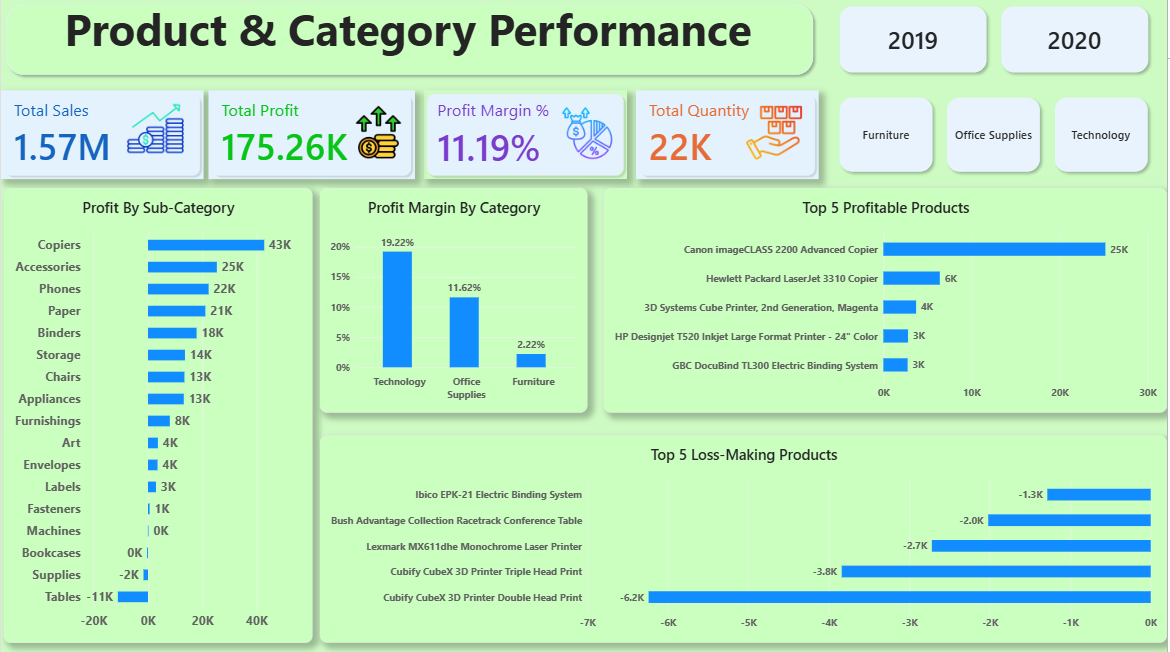

The page's visual inventory and layout, read from the dashboard file:
{"tool":"powerbi","page":{"name":"Product & Category Performance","canvas":[1920,1080],"ordinal":1},"visuals":[{"type":"shape","box":[0,0,1346.1,133.8],"z":0},{"type":"advancedSlicerVisual","fields":{"Values":["DimDate.Year"]},"box":[1368.8,0,533.1,133.8],"z":1000},{"type":"textbox","box":[65.9,0,1208.2,107],"z":2000},{"type":"cardVisual","fields":{"Data":["SuperStore_Sales_Dataset_Cleaned.Total Sales"]},"box":[0,150.3,333.4,146.1],"z":3000},{"type":"cardVisual","fields":{"Data":["SuperStore_Sales_Dataset_Cleaned.Total Profit"]},"box":[341.7,150.3,339.6,146.1],"z":4000},{"type":"cardVisual","fields":{"Data":["SuperStore_Sales_Dataset_Cleaned.Profit Margin %"]},"box":[695.7,150.3,335.5,146.1],"z":5000},{"type":"cardVisual","fields":{"Data":["SuperStore_Sales_Dataset_Cleaned.Total Quantity"]},"box":[1045.6,150.3,300.5,146.1],"z":6000},{"type":"image","box":[205.8,158.5,96.7,109.1],"z":7000},{"type":"image","box":[578.4,158.5,86.4,121.4],"z":8000},{"type":"image","box":[922.1,158.5,86.4,125.6],"z":9000},{"type":"clusteredBarChart","title":"Profit By Sub-Category","fields":{"Y":["SuperStore_Sales_Dataset_Cleaned.Total Profit"],"Category":["SuperStore_Sales_Dataset_Cleaned.Sub-Category"]},"box":[4.1,310.8,508.4,749.2],"z":10000},{"type":"clusteredColumnChart","title":"Profit Margin By Category","fields":{"Category":["SuperStore_Sales_Dataset_Cleaned.Category"],"Y":["SuperStore_Sales_Dataset_Cleaned.Profit Margin %"]},"box":[524.9,310.8,440.5,370.5],"z":11000},{"type":"clusteredBarChart","title":"Top 5 Profitable Products","fields":{"Y":["SuperStore_Sales_Dataset_Cleaned.Total Profit"],"Category":["SuperStore_Sales_Dataset_Cleaned.Product Name"]},"box":[992.1,310.8,928.3,370.5],"z":12000},{"type":"clusteredBarChart","title":"Top 5 Loss-Making Products","fields":{"Y":["SuperStore_Sales_Dataset_Cleaned.Total Profit"],"Category":["SuperStore_Sales_Dataset_Cleaned.Product Name"]},"box":[524.9,718.4,1395.5,341.7],"z":13000},{"type":"advancedSlicerVisual","fields":{"Values":["SuperStore_Sales_Dataset_Cleaned.Category"]},"box":[1368.8,150.3,533.1,146.1],"z":14000},{"type":"image","box":[1222.6,172.9,100.9,94.7],"z":14001}]}

Visuals, with their boxes in screenshot pixels (x1, y1, x2, y2), scaled from the page's 1920x1080 canvas onto the 1170x652 screenshot:
shape: 0, 0, 820, 81
advancedSlicerVisual - DimDate.Year: 834, 0, 1159, 81
textbox: 40, 0, 776, 65
cardVisual - SuperStore_Sales_Dataset_Cleaned.Total Sales: 0, 91, 203, 179
cardVisual - SuperStore_Sales_Dataset_Cleaned.Total Profit: 208, 91, 415, 179
cardVisual - SuperStore_Sales_Dataset_Cleaned.Profit Margin %: 424, 91, 628, 179
cardVisual - SuperStore_Sales_Dataset_Cleaned.Total Quantity: 637, 91, 820, 179
image: 125, 96, 184, 162
image: 352, 96, 405, 169
image: 562, 96, 615, 172
"Profit By Sub-Category" clusteredBarChart: 2, 188, 312, 640
"Profit Margin By Category" clusteredColumnChart: 320, 188, 588, 411
"Top 5 Profitable Products" clusteredBarChart: 605, 188, 1169, 411
"Top 5 Loss-Making Products" clusteredBarChart: 320, 434, 1169, 640
advancedSlicerVisual - SuperStore_Sales_Dataset_Cleaned.Category: 834, 91, 1159, 179
image: 745, 104, 807, 162
